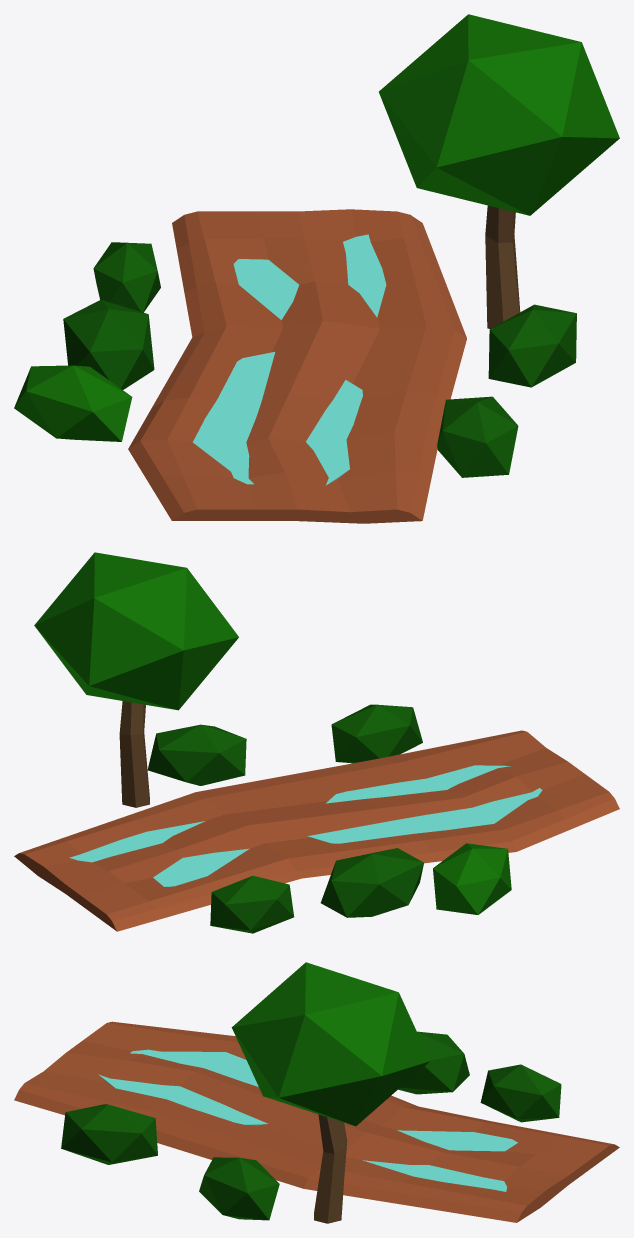
The model's file is street3_03_6.fbx.
3 renders of one model, top to bottom at view 1: azimuth 30°, elevation 25°; view 2: azimuth 150°, elevation 25°; view 3: azimuth 270°, elevation 25°, orthographic. The views are drawn at different scales.
Visible parts, largest first — view 1: redRoad03.002, tree.001, Cylinder.002, Icosphere.038, Icosphere.036, Icosphere.037, Icosphere.039, Cylinder.003, Icosphere.040; view 2: redRoad03.002, tree.001, Cylinder.002, Icosphere.036, Icosphere.037, Icosphere.038, Icosphere.039, Icosphere.040, Cylinder.003; view 3: redRoad03.002, tree.001, Icosphere.039, Cylinder.002, Icosphere.037, Icosphere.040, Cylinder.003, Icosphere.036.
Boxes of the visible parts, bbox=[...] form: redRoad03.002: bbox=[128, 209, 466, 523]; tree.001: bbox=[379, 14, 619, 328]; Cylinder.002: bbox=[192, 352, 362, 521]; Icosphere.038: bbox=[14, 365, 132, 441]; Icosphere.036: bbox=[63, 300, 154, 389]; Icosphere.037: bbox=[488, 304, 576, 387]; Icosphere.039: bbox=[437, 396, 518, 477]; Cylinder.003: bbox=[233, 234, 386, 319]; Icosphere.040: bbox=[93, 242, 160, 312]; redRoad03.002: bbox=[14, 730, 619, 931]; tree.001: bbox=[34, 552, 238, 807]; Cylinder.002: bbox=[307, 765, 542, 843]; Icosphere.036: bbox=[320, 848, 423, 917]; Icosphere.037: bbox=[147, 724, 246, 785]; Icosphere.038: bbox=[433, 843, 511, 914]; Icosphere.039: bbox=[331, 704, 422, 763]; Icosphere.040: bbox=[210, 875, 294, 933]; Cylinder.003: bbox=[69, 821, 249, 886]; redRoad03.002: bbox=[14, 1021, 619, 1222]; tree.001: bbox=[231, 962, 429, 1223]; Icosphere.039: bbox=[61, 1104, 157, 1164]; Cylinder.002: bbox=[98, 1049, 268, 1125]; Icosphere.037: bbox=[199, 1157, 279, 1220]; Icosphere.040: bbox=[480, 1064, 561, 1122]; Cylinder.003: bbox=[363, 1130, 517, 1191]; Icosphere.036: bbox=[398, 1031, 469, 1094].
Bounding box in the file's own units: 88.9 × 47.34 × 103.
